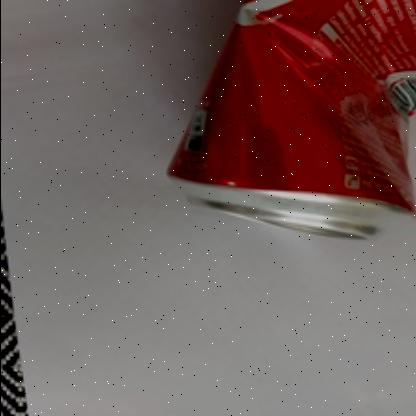Can: (168, 0, 416, 242)
